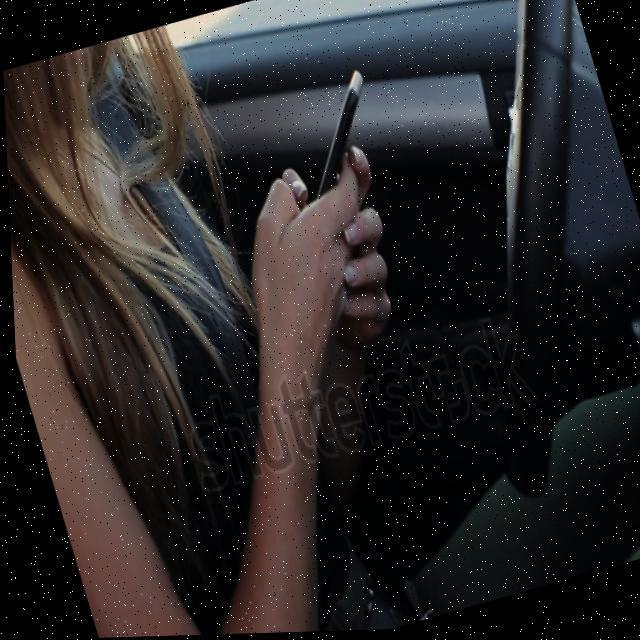PhoneCall: (286, 68, 397, 218)
